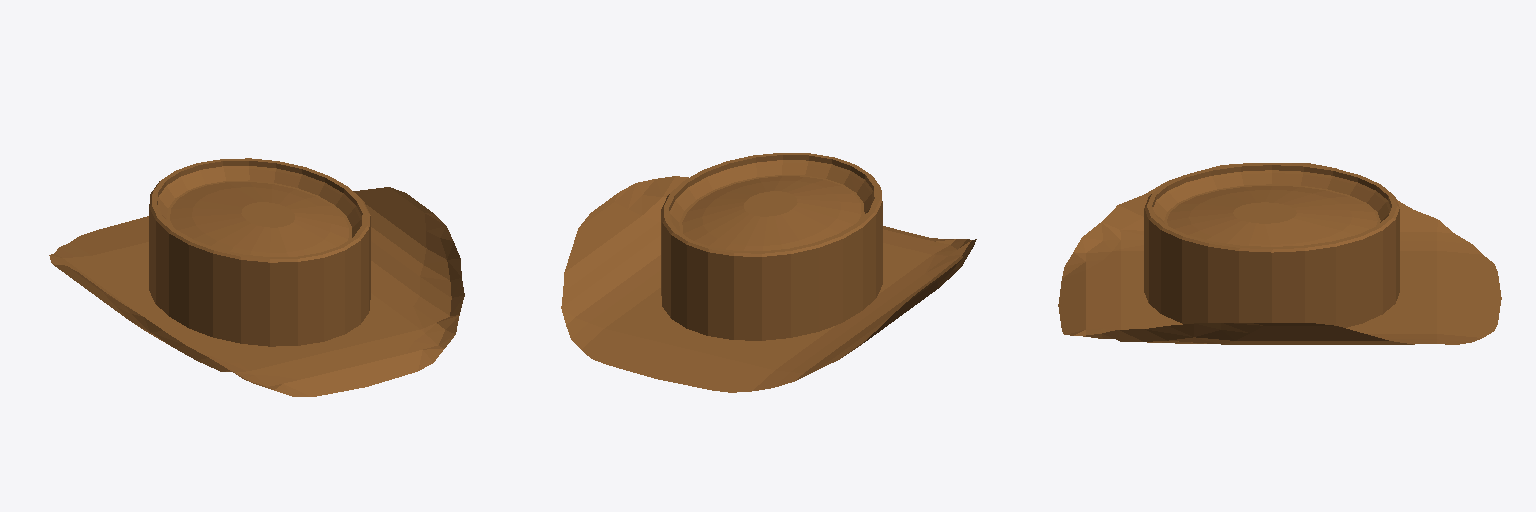
3 views of the same model, side by side, from view 1: azimuth 30°, elevation 25°; view 2: azimuth 150°, elevation 25°; view 3: azimuth 270°, elevation 25° (orthographic).
Visible parts, largest first — view 1: group_1_ID26.002, group_0_ID4.002, group_0.002_ID18.005, group_0.001_ID12.001; view 2: group_1_ID26.002, group_0_ID4.002, group_0.002_ID18.005, group_0.001_ID12.001; view 3: group_1_ID26.002, group_0_ID4.002, group_0.002_ID18.005, group_0.001_ID12.001.
Boxes of the visible parts, box(x1,y1,x2,y2) form: group_1_ID26.002: box(49, 187, 464, 396); group_0_ID4.002: box(149, 158, 370, 346); group_0.002_ID18.005: box(170, 182, 348, 256); group_0.001_ID12.001: box(157, 161, 362, 239); group_1_ID26.002: box(561, 176, 976, 392); group_0_ID4.002: box(661, 153, 882, 340); group_0.002_ID18.005: box(682, 176, 861, 250); group_0.001_ID12.001: box(669, 155, 874, 234); group_1_ID26.002: box(1058, 163, 1501, 344); group_0_ID4.002: box(1144, 163, 1399, 327); group_0.002_ID18.005: box(1167, 186, 1377, 246); group_0.001_ID12.001: box(1152, 165, 1391, 226).
Size of the model in its own units: 0.2686 by 0.0784 by 0.3153.